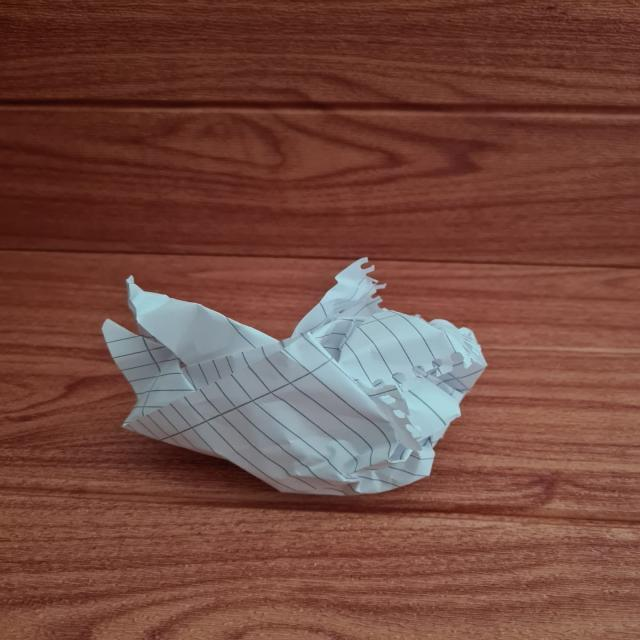Paper: (105, 262, 487, 495)
